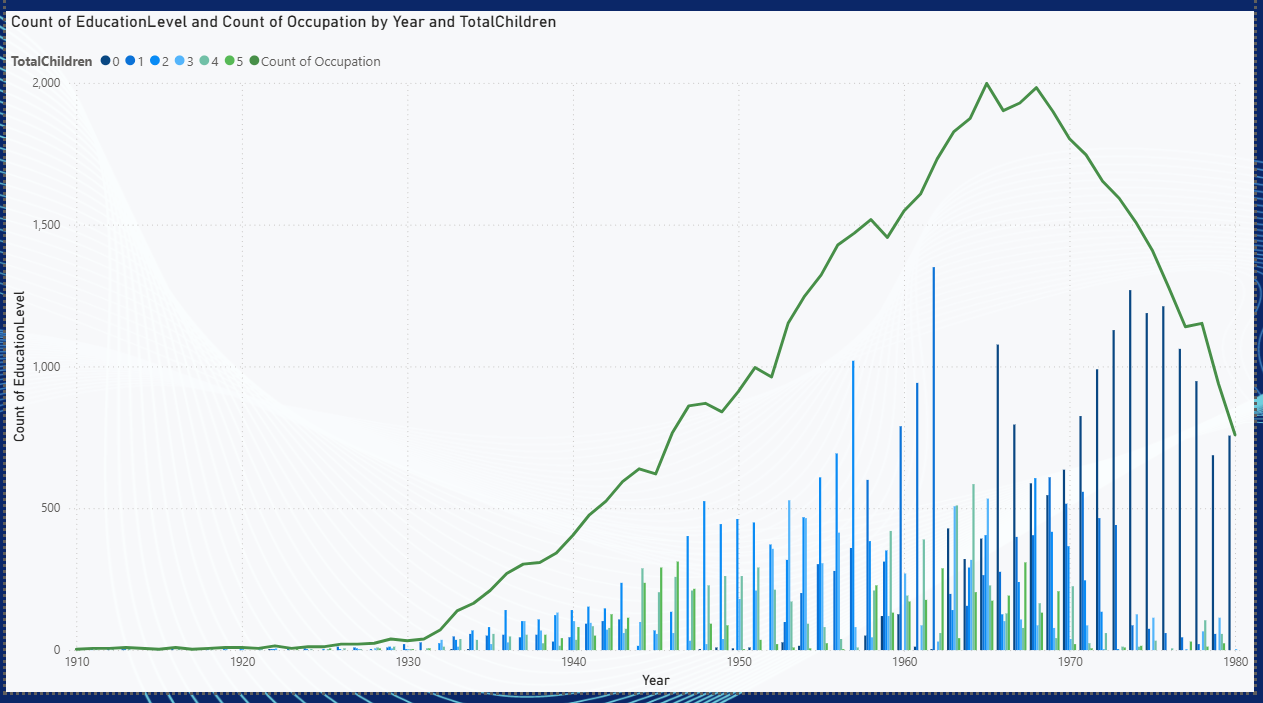

The page's visual inventory and layout, read from the dashboard file:
{"tool":"powerbi","page":{"name":"Education and Occupation Trends","canvas":[1280,720],"ordinal":1},"visuals":[{"type":"lineClusteredColumnComboChart","fields":{"Category":["gold extsales.BirthDate.Variation.Date Hierarchy.Year","gold extsales.BirthDate.Variation.Date Hierarchy.Quarter","gold extsales.BirthDate.Variation.Date Hierarchy.Month","gold extsales.BirthDate.Variation.Date Hierarchy.Day"],"Y":["CountNonNull(gold extsales.EducationLevel)"],"Y2":["CountNonNull(gold extsales.Occupation)"],"Series":["gold extsales.TotalChildren"]},"box":[0,21.5,1280,698.5],"z":0}]}

Visuals, with their boxes in screenshot pixels (x1, y1, x2, y2), scaled from the page's 1280x720 canvas onto the 1263x703 screenshot:
lineClusteredColumnComboChart - gold extsales.BirthDate.Variation.Date Hierarchy.Year x gold extsales.BirthDate.Variation.Date Hierarchy.Quarter: 0/21/1262/702
